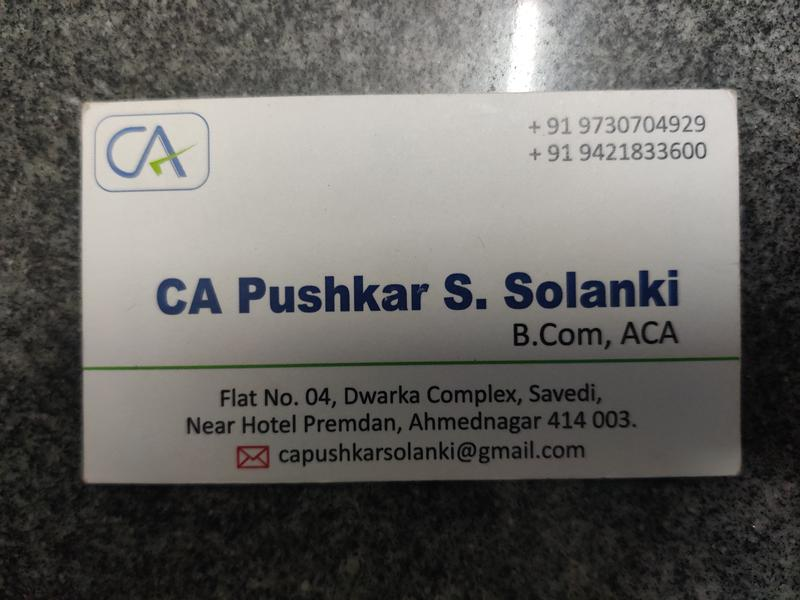card: (79, 89, 745, 482)
